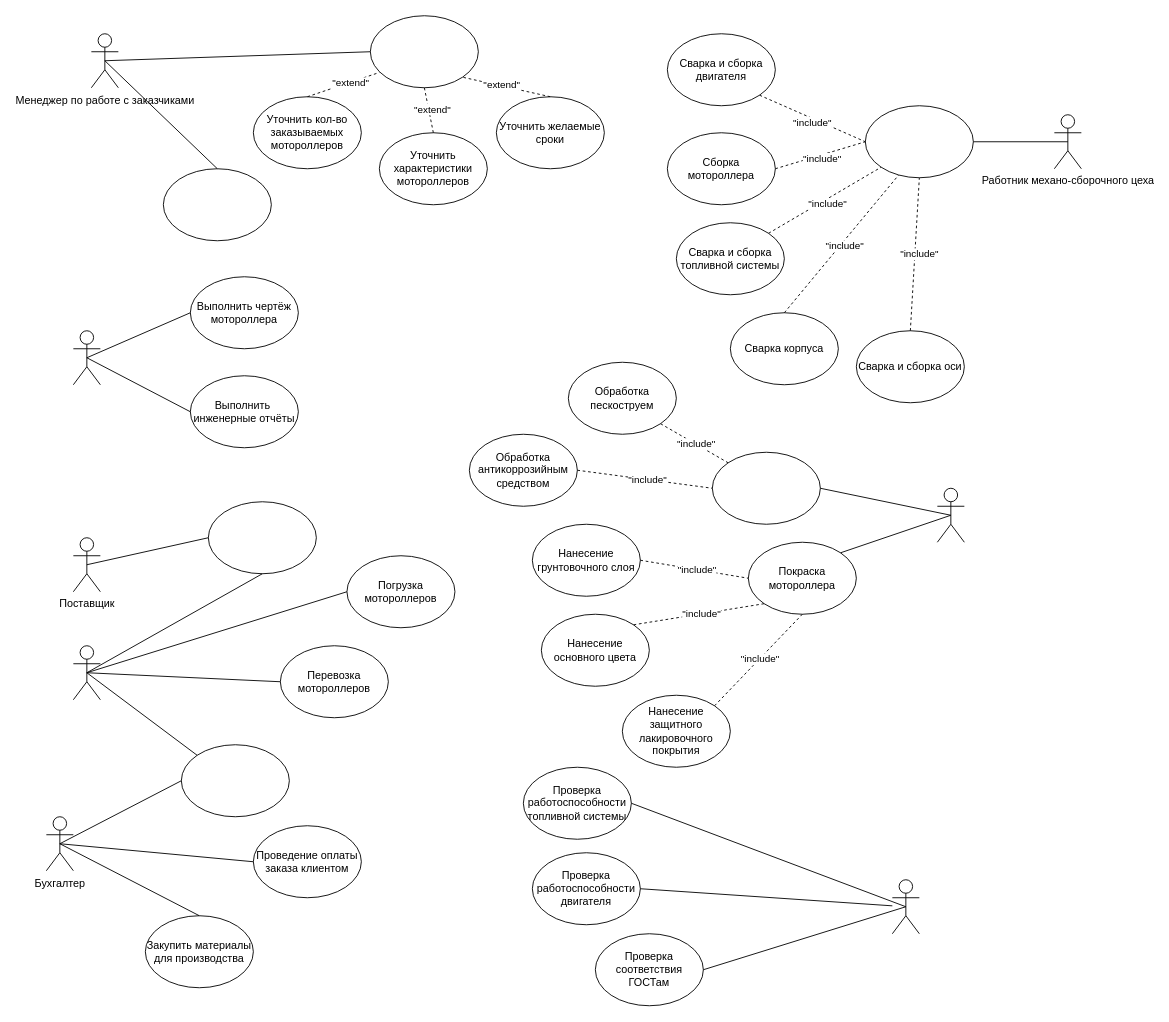
Image size: 1169x1022. Some labels were removed from this diagram. Each missing label, with the box of its shape:
Доставить материалы для производства: (207, 501, 316, 574)
Изготовление деталей мотороллеров: (864, 105, 973, 178)
Конструктор: (72, 330, 100, 385)
Первоначальная обработка покрытия: (711, 451, 820, 524)
Принять запрос заказчика: (369, 15, 478, 88)
Работник контрольно-измерительного цеха: (891, 879, 919, 934)
Работник покрасочного цеха: (936, 487, 964, 542)
Составление сопроводительных документов: (180, 744, 289, 817)
Транспортная компания: (72, 645, 100, 700)
Уведомить о готовности заказа: (162, 168, 271, 241)
